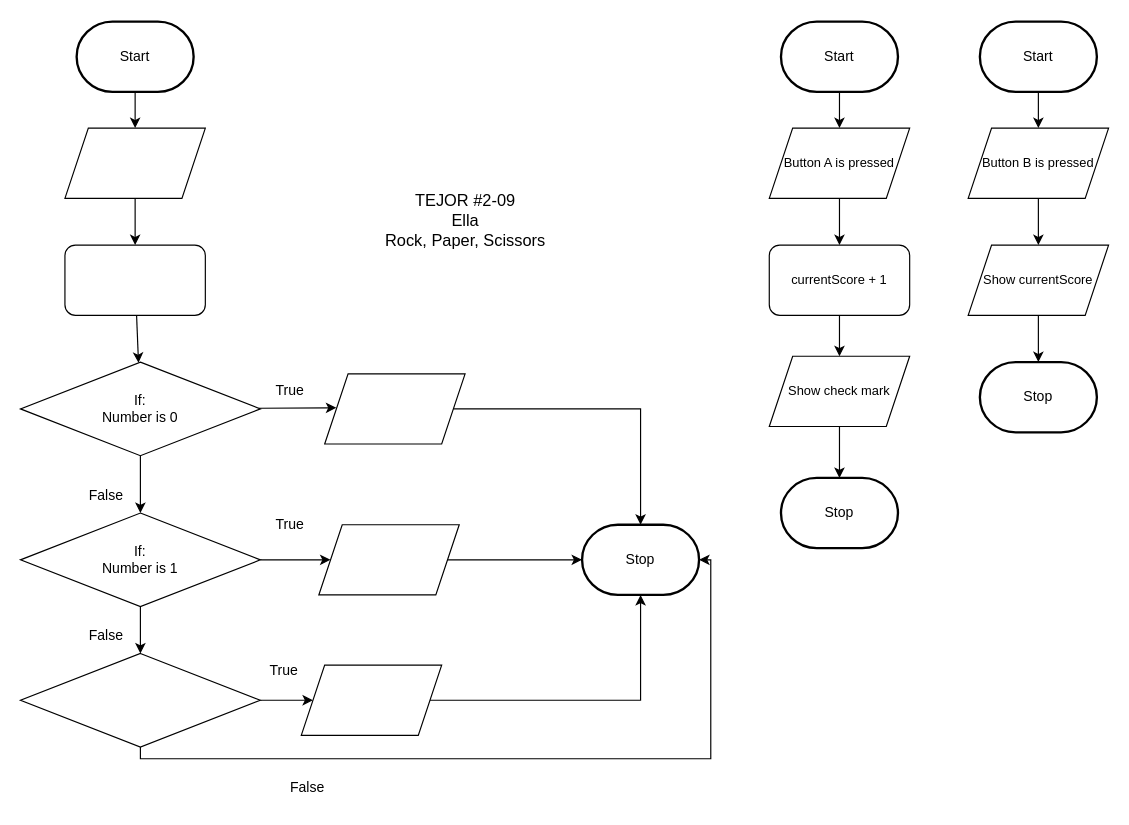
Some shapes in this 1129 by 825 pixel diagram are drawn without their labels. Each missing label, with the box of its shape:
Display Paper: (318, 524, 459, 595)
Display Rock: (324, 373, 465, 444)
Display Scissor: (300, 664, 442, 735)
If: Number is 2: (19, 652, 260, 747)
Microbit is shaken: (64, 127, 205, 198)
Picks a number between 0-2: (64, 244, 205, 315)
